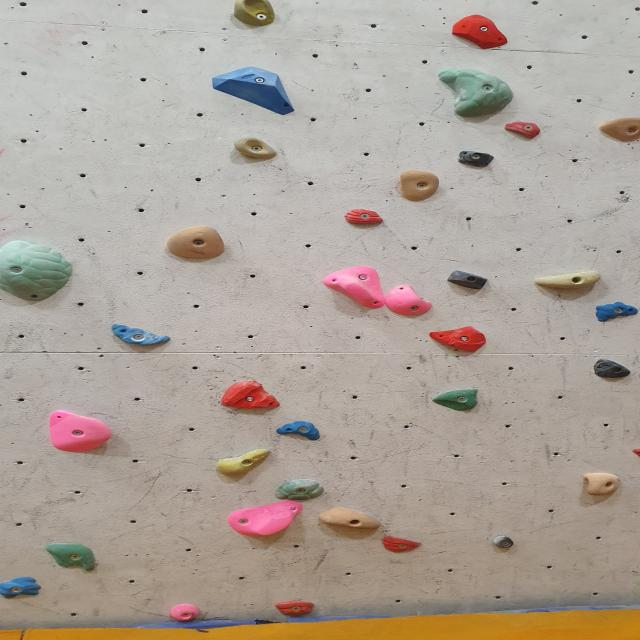Crimp: (446, 14, 512, 54), (212, 380, 284, 412), (434, 323, 496, 353), (109, 322, 172, 350), (377, 532, 426, 554), (274, 480, 324, 500), (0, 576, 40, 598), (592, 359, 630, 381), (504, 120, 542, 141), (342, 208, 384, 226), (278, 422, 325, 438), (272, 600, 315, 616), (169, 604, 198, 620)
Jug: (46, 412, 108, 451), (167, 227, 225, 260), (384, 284, 434, 317), (395, 170, 440, 202), (232, 0, 276, 31), (580, 470, 624, 500), (598, 115, 640, 144), (232, 138, 278, 160)
Pinch: (214, 448, 272, 480), (323, 506, 384, 533), (533, 269, 601, 292), (448, 268, 492, 293), (455, 149, 496, 169), (492, 535, 517, 549)
Sloper: (207, 65, 295, 118), (0, 240, 74, 302), (439, 68, 524, 118), (228, 499, 306, 540), (322, 263, 384, 309), (45, 542, 98, 572), (432, 388, 488, 410), (594, 300, 640, 322)
